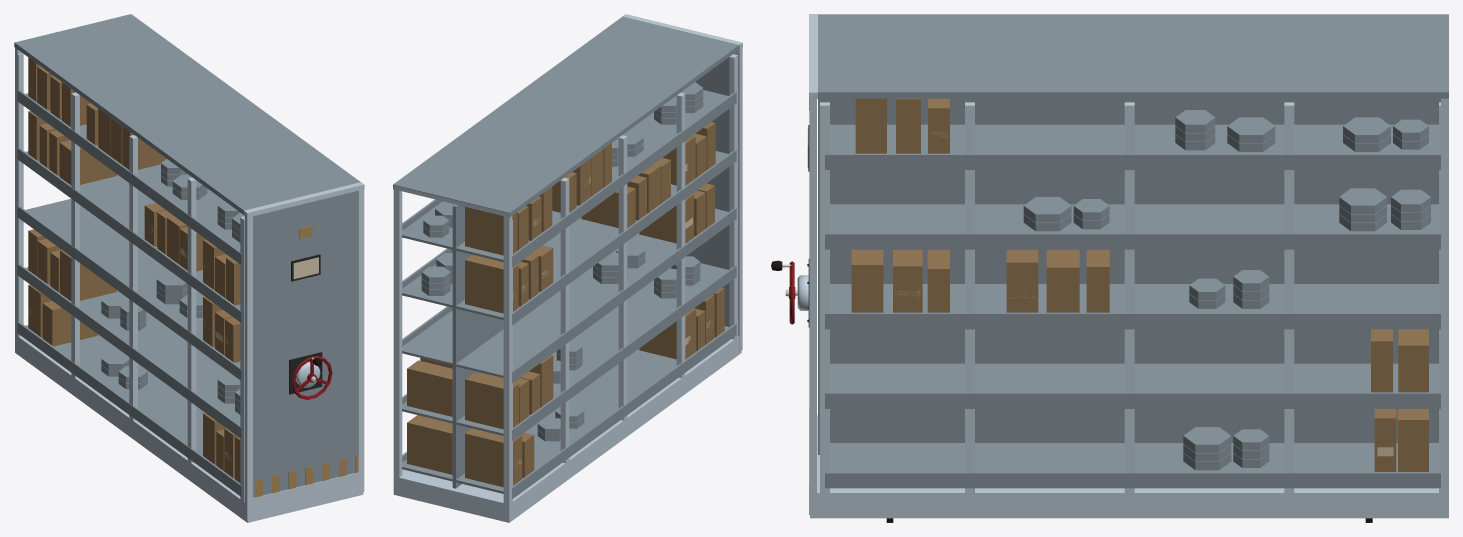
The model's file is carriage_5.glb.
The picture shows the model from 3 angles, left to right: view 1: azimuth 30°, elevation 25°; view 2: azimuth 150°, elevation 25°; view 3: azimuth 270°, elevation 25°; orthographic projection. The views are drawn at different scales.
Parts seen in each view (by area): view 1: carriage_body, IA_crank, end_tag; view 2: carriage_body; view 3: carriage_body.
Boxes of the visible parts, x1=… form: carriage_body: x1=14, y1=14, x2=364, y2=522; IA_crank: x1=291, y1=356, x2=332, y2=399; end_tag: x1=293, y1=257, x2=318, y2=279; carriage_body: x1=393, y1=14, x2=742, y2=522; carriage_body: x1=795, y1=14, x2=1448, y2=522.
Bounding box in the file's own units: 0.932 × 2.45 × 3.4.
